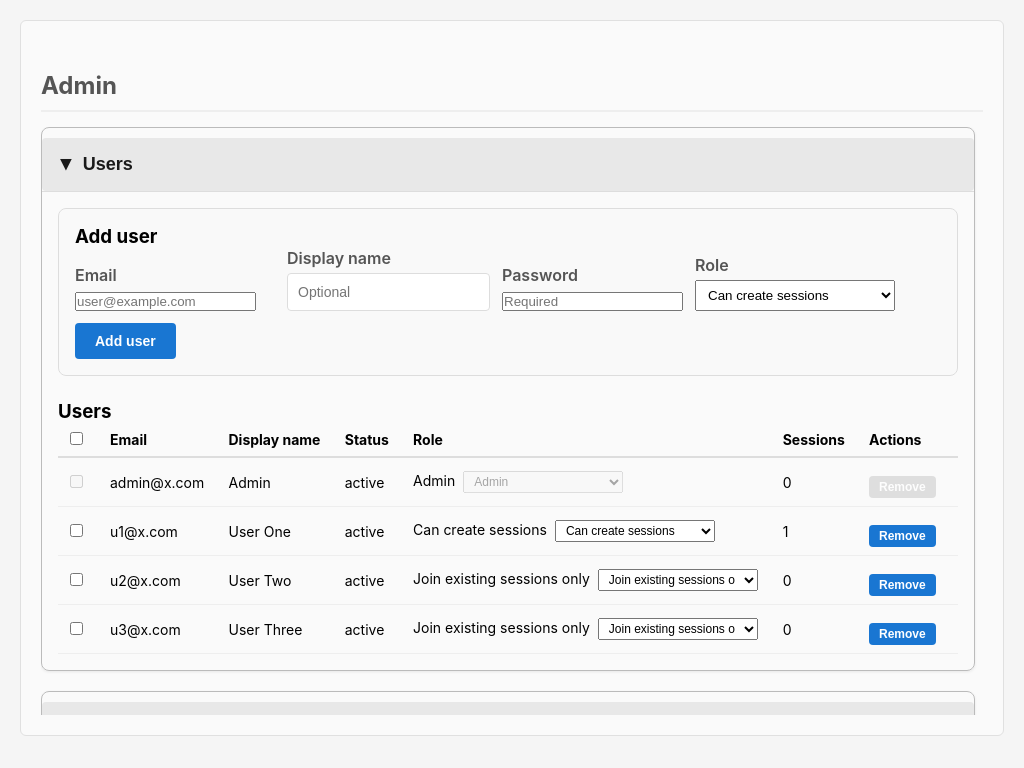
Test case: AdminUsers bulk delete (SCRUM-582) › confirms, deletes selected users, removes rows and shows a success toast
Click the checkbox named "Select u1@x.com".
click(76, 530)  # box [70,524,83,536]
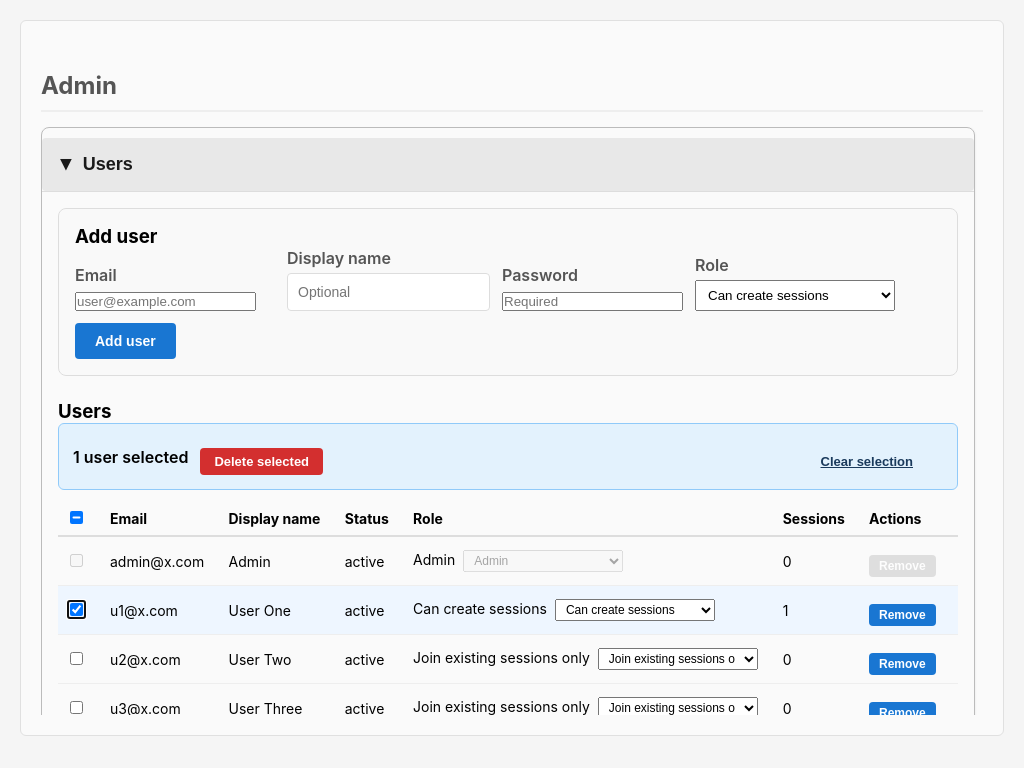
Click the checkbox named "Select u2@x.com".
click(76, 658)  # box [70,652,83,664]
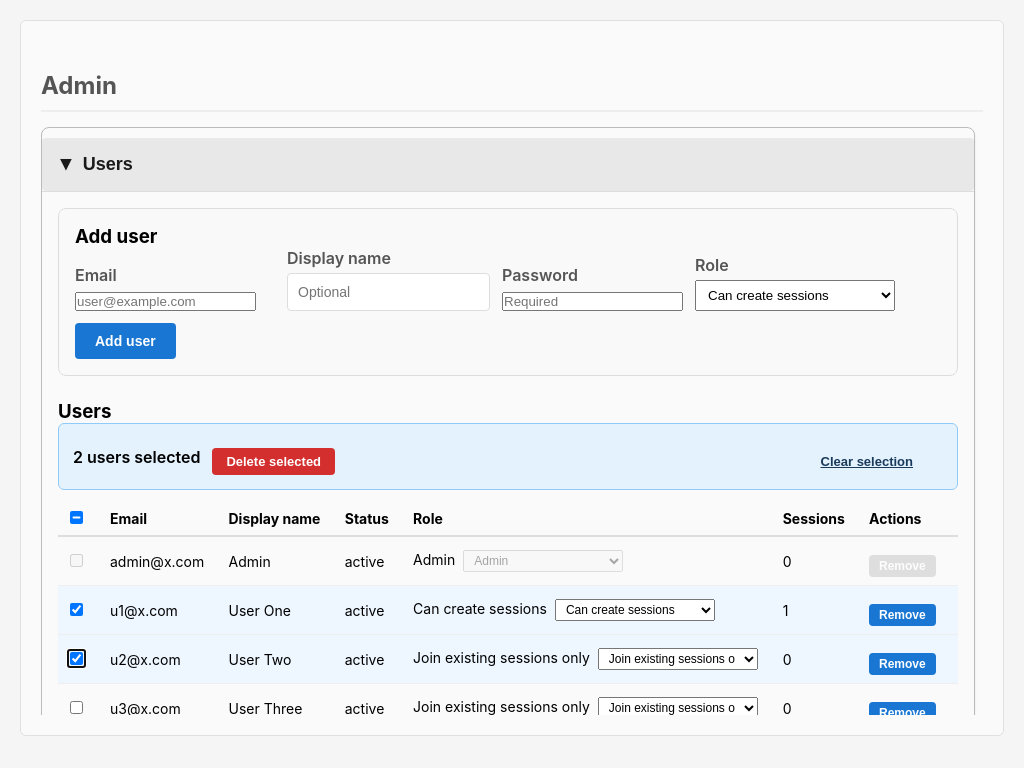
Click the button "Delete selected".
click(274, 462)  # box [212,448,335,475]
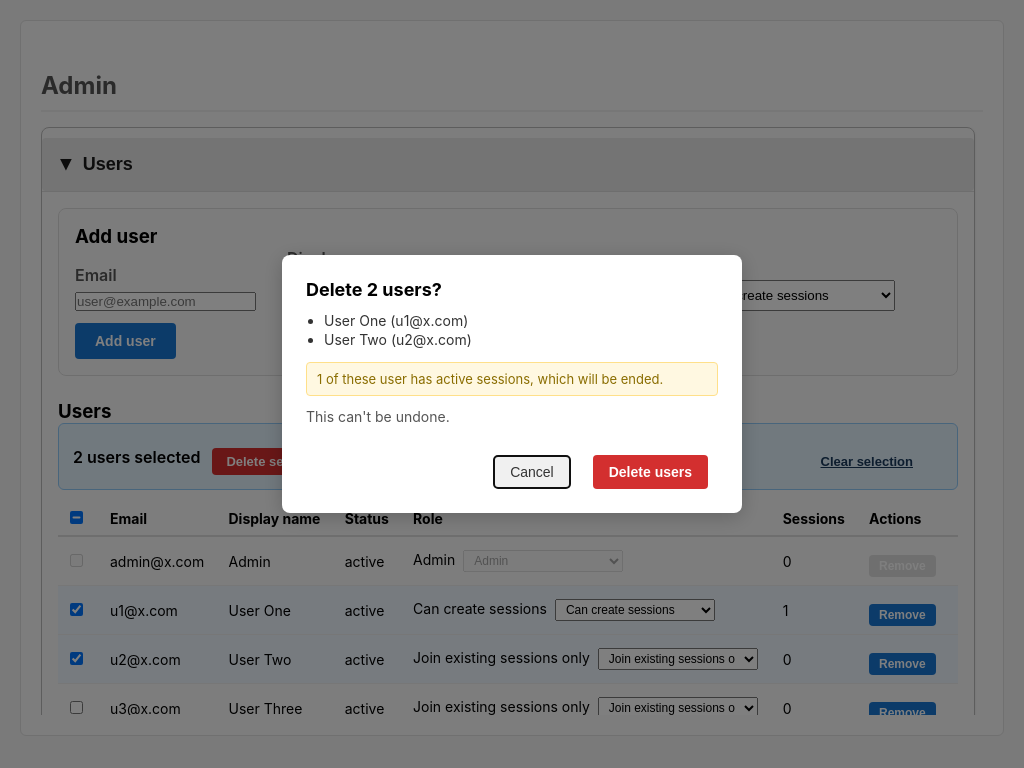
Now the heading "Delete 2 users?" is shown, box [306,279,442,300]
Now the list item "User One (u1@x.com)" is shown, box [324,312,468,329]
Now the text "1 of these user has active sessions, which will be ended." is shown, box [306,362,718,396]
Click the button "Delete users".
click(650, 472)  # box [593,455,708,489]
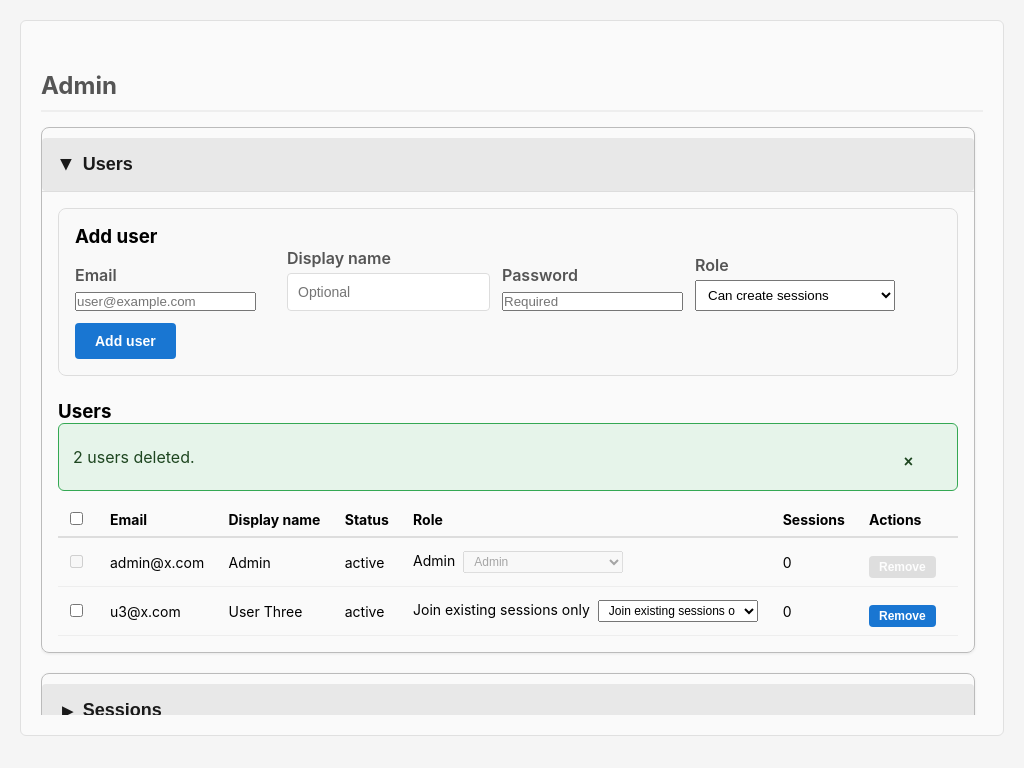
Now the message shows "2 users deleted.", box [73,447,195,467]
Now the text "users selected" is gone
